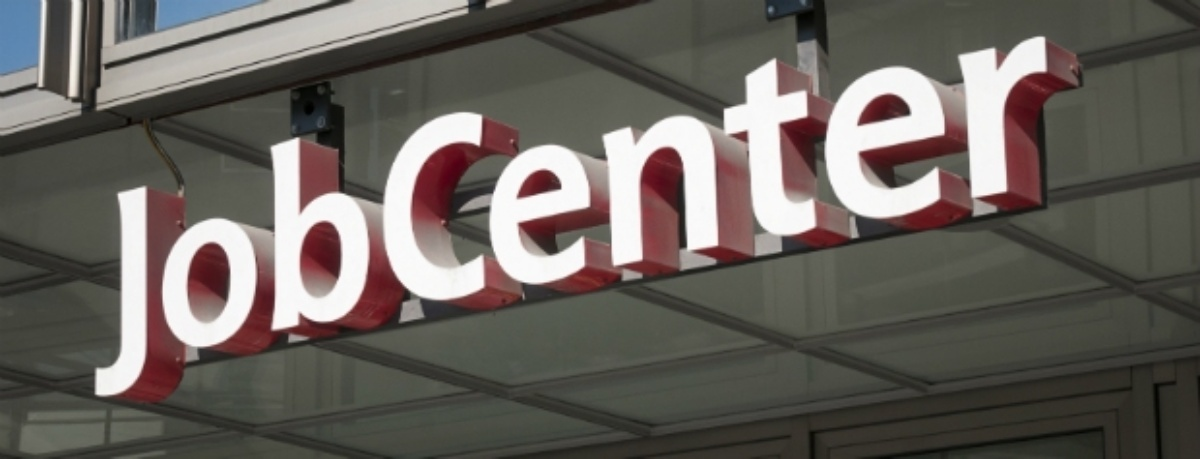text: (1041, 12, 1057, 409), (129, 12, 144, 409), (145, 12, 160, 409), (161, 12, 176, 409), (177, 12, 192, 409), (193, 12, 208, 409), (209, 12, 224, 409), (225, 12, 240, 409), (241, 12, 256, 409), (257, 12, 272, 409), (273, 12, 288, 409), (289, 12, 304, 409), (305, 12, 320, 409), (321, 12, 336, 409), (337, 12, 352, 409), (353, 12, 368, 409), (369, 12, 384, 409), (385, 12, 400, 409), (401, 12, 416, 409), (417, 12, 432, 409), (433, 12, 448, 409), (449, 12, 464, 409), (465, 12, 480, 409), (481, 12, 496, 409), (497, 12, 512, 409), (513, 12, 528, 409), (529, 12, 544, 409), (545, 12, 560, 409), (561, 12, 576, 409), (577, 12, 592, 409), (593, 12, 608, 409), (609, 12, 624, 409), (625, 12, 640, 409), (641, 12, 656, 409), (657, 12, 672, 409), (673, 12, 688, 409), (689, 12, 704, 409), (705, 12, 720, 409), (721, 12, 736, 409), (737, 12, 752, 409), (753, 12, 768, 409), (769, 12, 784, 409), (785, 12, 800, 409), (801, 12, 816, 409), (817, 12, 832, 409), (833, 12, 848, 409), (849, 12, 864, 409), (865, 12, 880, 409), (881, 12, 896, 409), (897, 12, 912, 409), (913, 12, 928, 409), (929, 12, 944, 409), (945, 12, 960, 409), (961, 12, 976, 409), (977, 12, 992, 409), (993, 12, 1008, 409), (1009, 12, 1024, 409), (1025, 12, 1040, 409), (117, 12, 128, 409)
